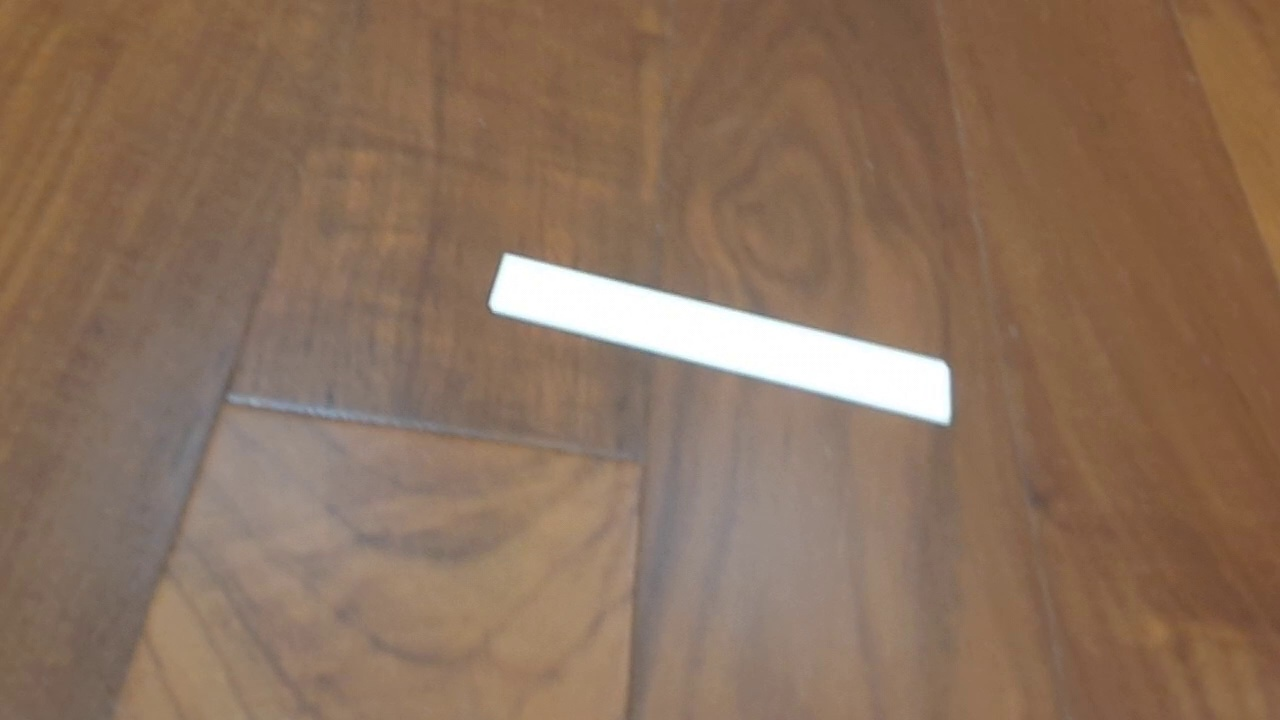ruler: (484, 249, 954, 431)
